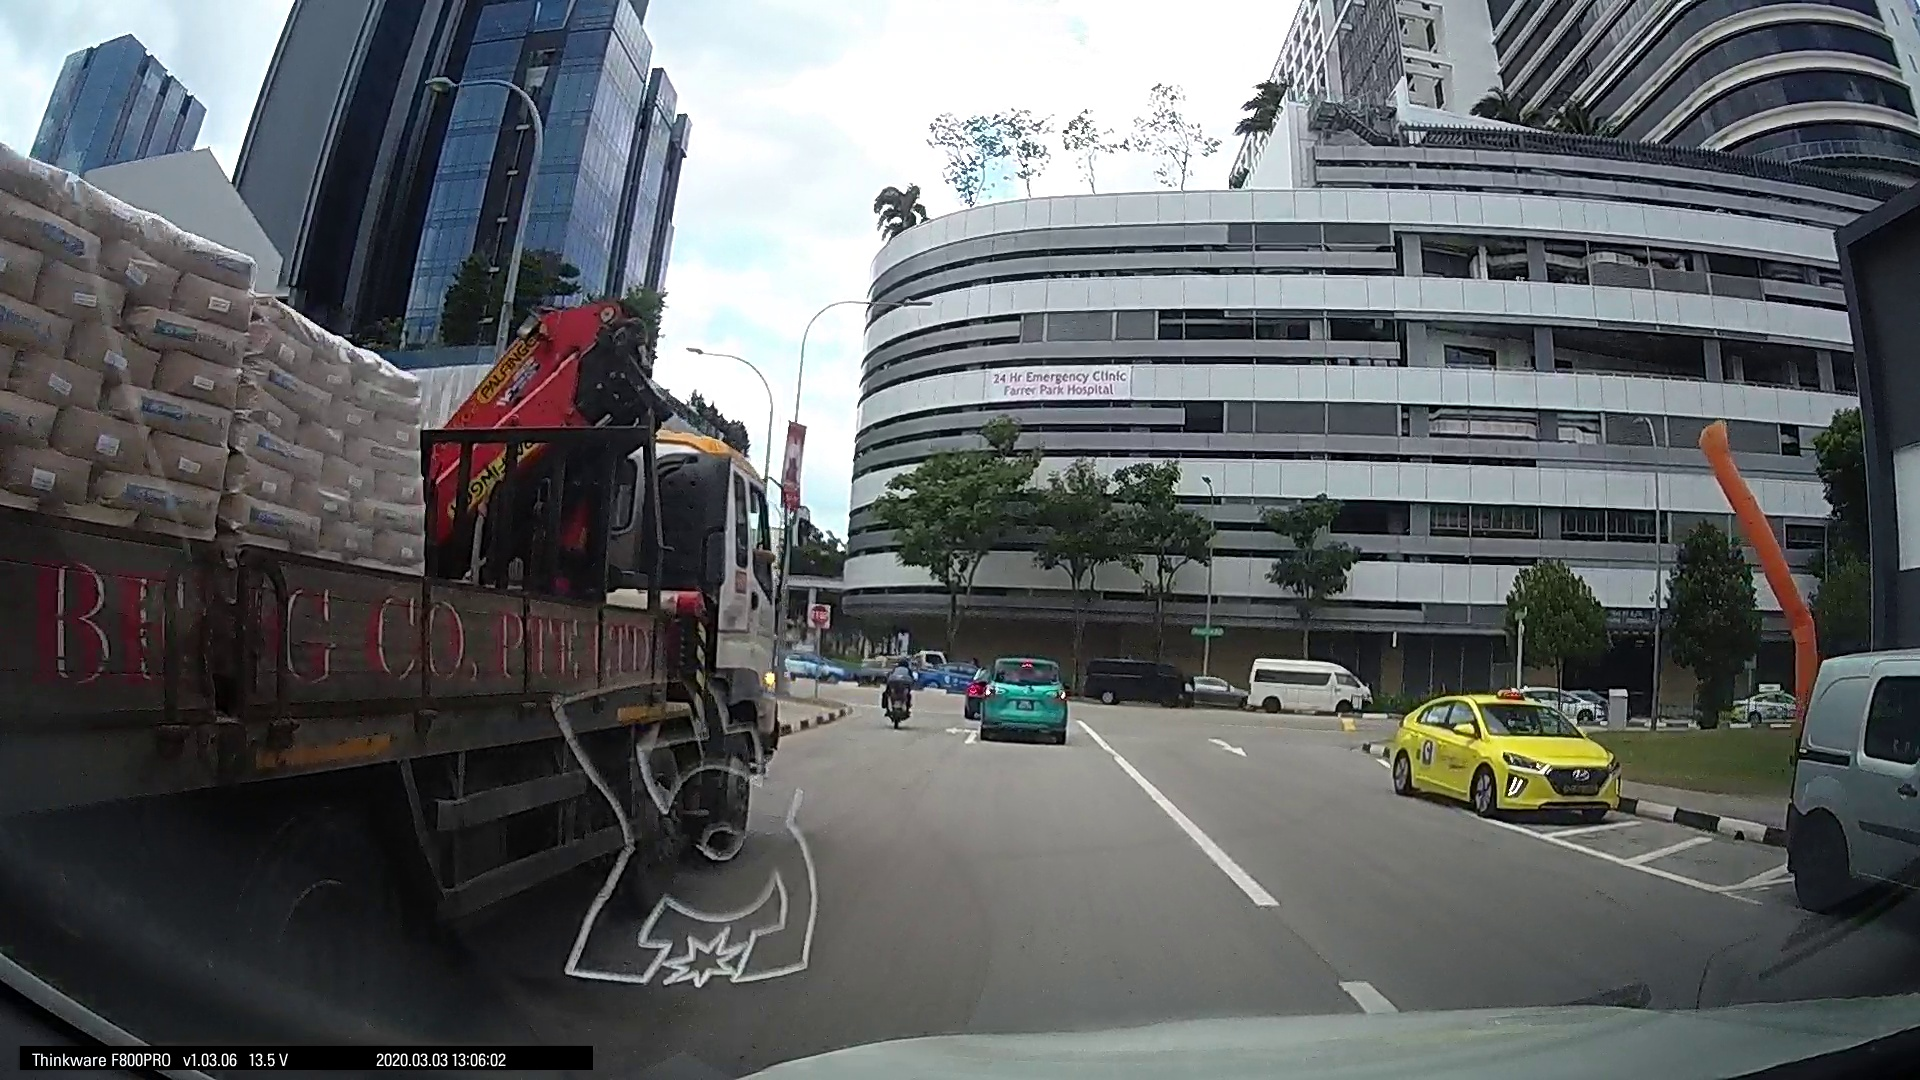Heavy Vehicle: (7, 290, 777, 1015)
Light Vehicle: (1779, 642, 1919, 922), (1377, 684, 1631, 825), (1236, 651, 1367, 717), (971, 655, 1065, 742), (1076, 649, 1195, 703)
